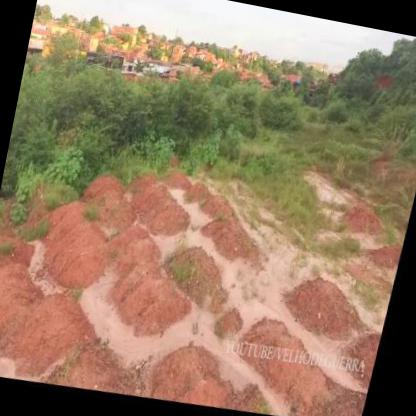agua: (76, 287, 165, 378), (216, 262, 300, 346)
